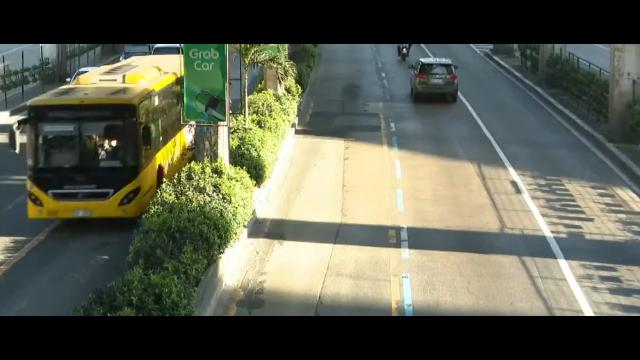bus: (9, 53, 199, 219)
car: (410, 58, 459, 105)
motorcycle: (397, 44, 413, 63)
